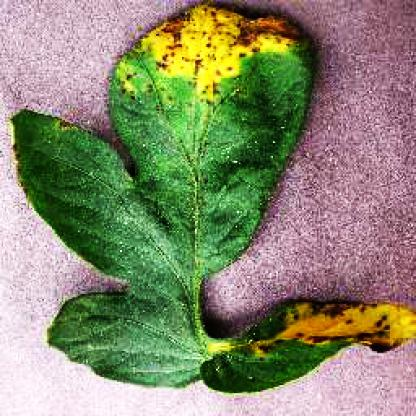BACTERIAL SPOT: (11, 5, 414, 395)
